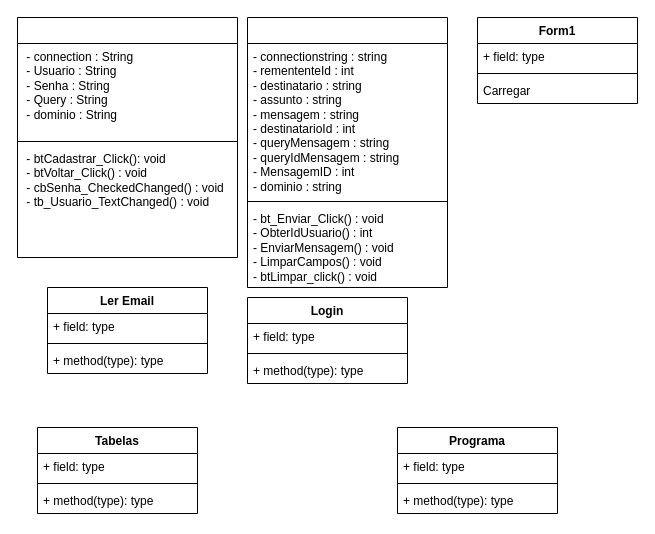
Some shapes in this 655 by 534 pixel diagram are drawn without their labels. Here are the shapes that lost their labels. From the top down, the box of each, then its label:
(16, 16, 238, 258): Cadastro Login
(246, 16, 448, 288): Enviar Email
